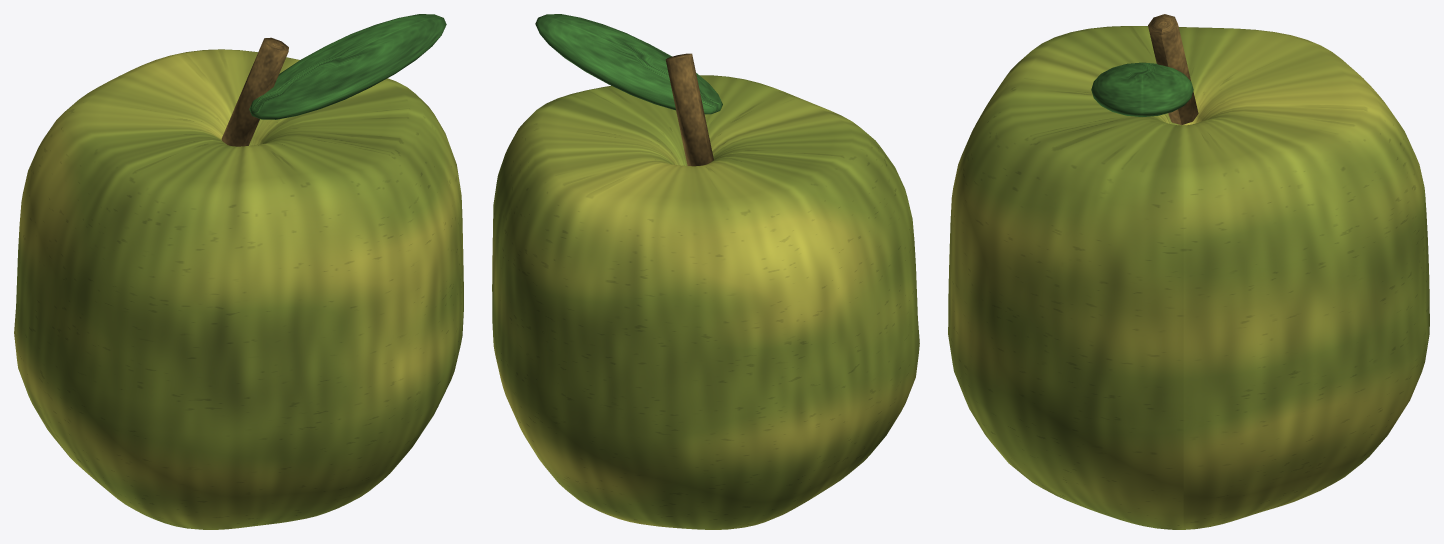
File: apple_green.glb
3 renders of one model, left to right at view 1: azimuth 30°, elevation 25°; view 2: azimuth 150°, elevation 25°; view 3: azimuth 270°, elevation 25°, orthographic. The views are drawn at different scales.
Parts seen in each view (by area): view 1: apple_green, leaf, dry; view 2: apple_green, leaf, dry; view 3: apple_green, leaf, dry.
Boxes of the visible parts, box(x1,y1,x2,y2) form: apple_green: box(14, 49, 463, 529); leaf: box(249, 14, 446, 119); dry: box(221, 37, 288, 146); apple_green: box(492, 75, 919, 529); leaf: box(535, 14, 722, 114); dry: box(665, 53, 713, 166); apple_green: box(948, 26, 1429, 529); leaf: box(1091, 62, 1193, 116); dry: box(1148, 14, 1198, 124).
Bounding box in the file's own units: 0.0949 × 0.104 × 0.094.
3 materials, 3 textured.
